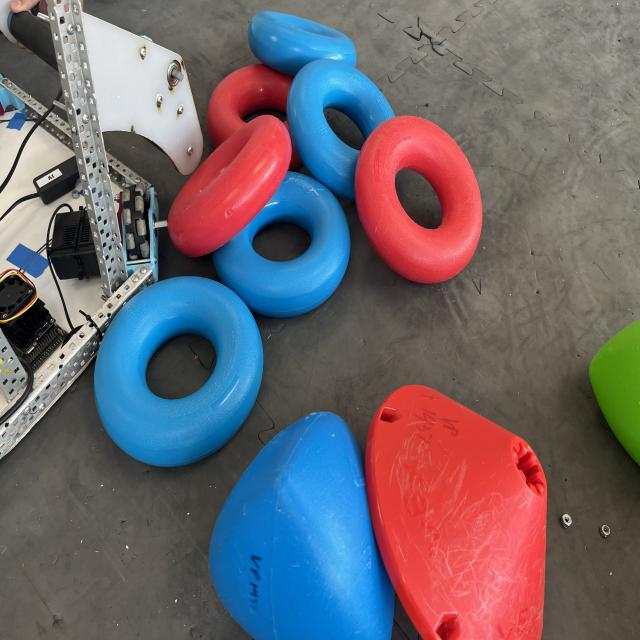Blue-Ring: (95, 277, 262, 467), (212, 172, 350, 317), (286, 60, 395, 200), (248, 12, 356, 77)
Red-Ring: (355, 117, 482, 283), (168, 115, 291, 257), (208, 63, 292, 148), (231, 95, 232, 98)
